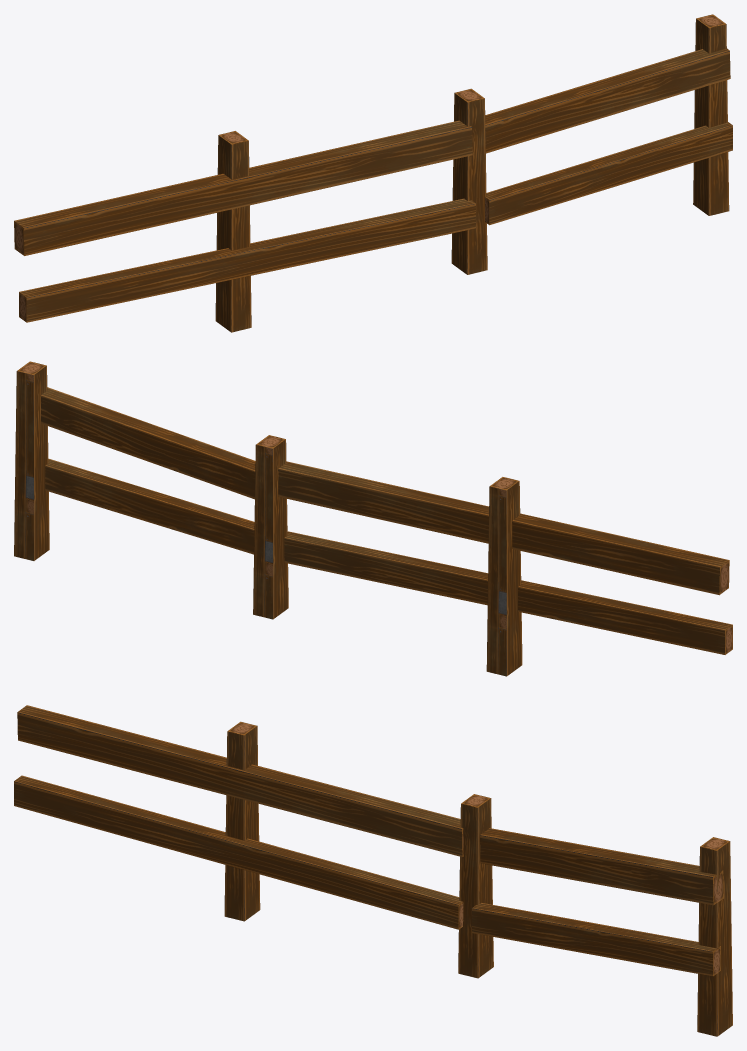
3 views of the same model, one above another, from view 1: azimuth 30°, elevation 25°; view 2: azimuth 150°, elevation 25°; view 3: azimuth 330°, elevation 25° (orthographic).
Visible parts, largest first — view 1: Cube.1391; view 2: Cube.1391; view 3: Cube.1391.
Part boxes in pixels (x1,y1,x2,y2): Cube.1391: (14,14,732,332); Cube.1391: (14,361,732,676); Cube.1391: (14,705,732,1036).
Size of the model in its own units: 522 by 132 by 25.43.
Materials: 1 (1 with a texture image).
